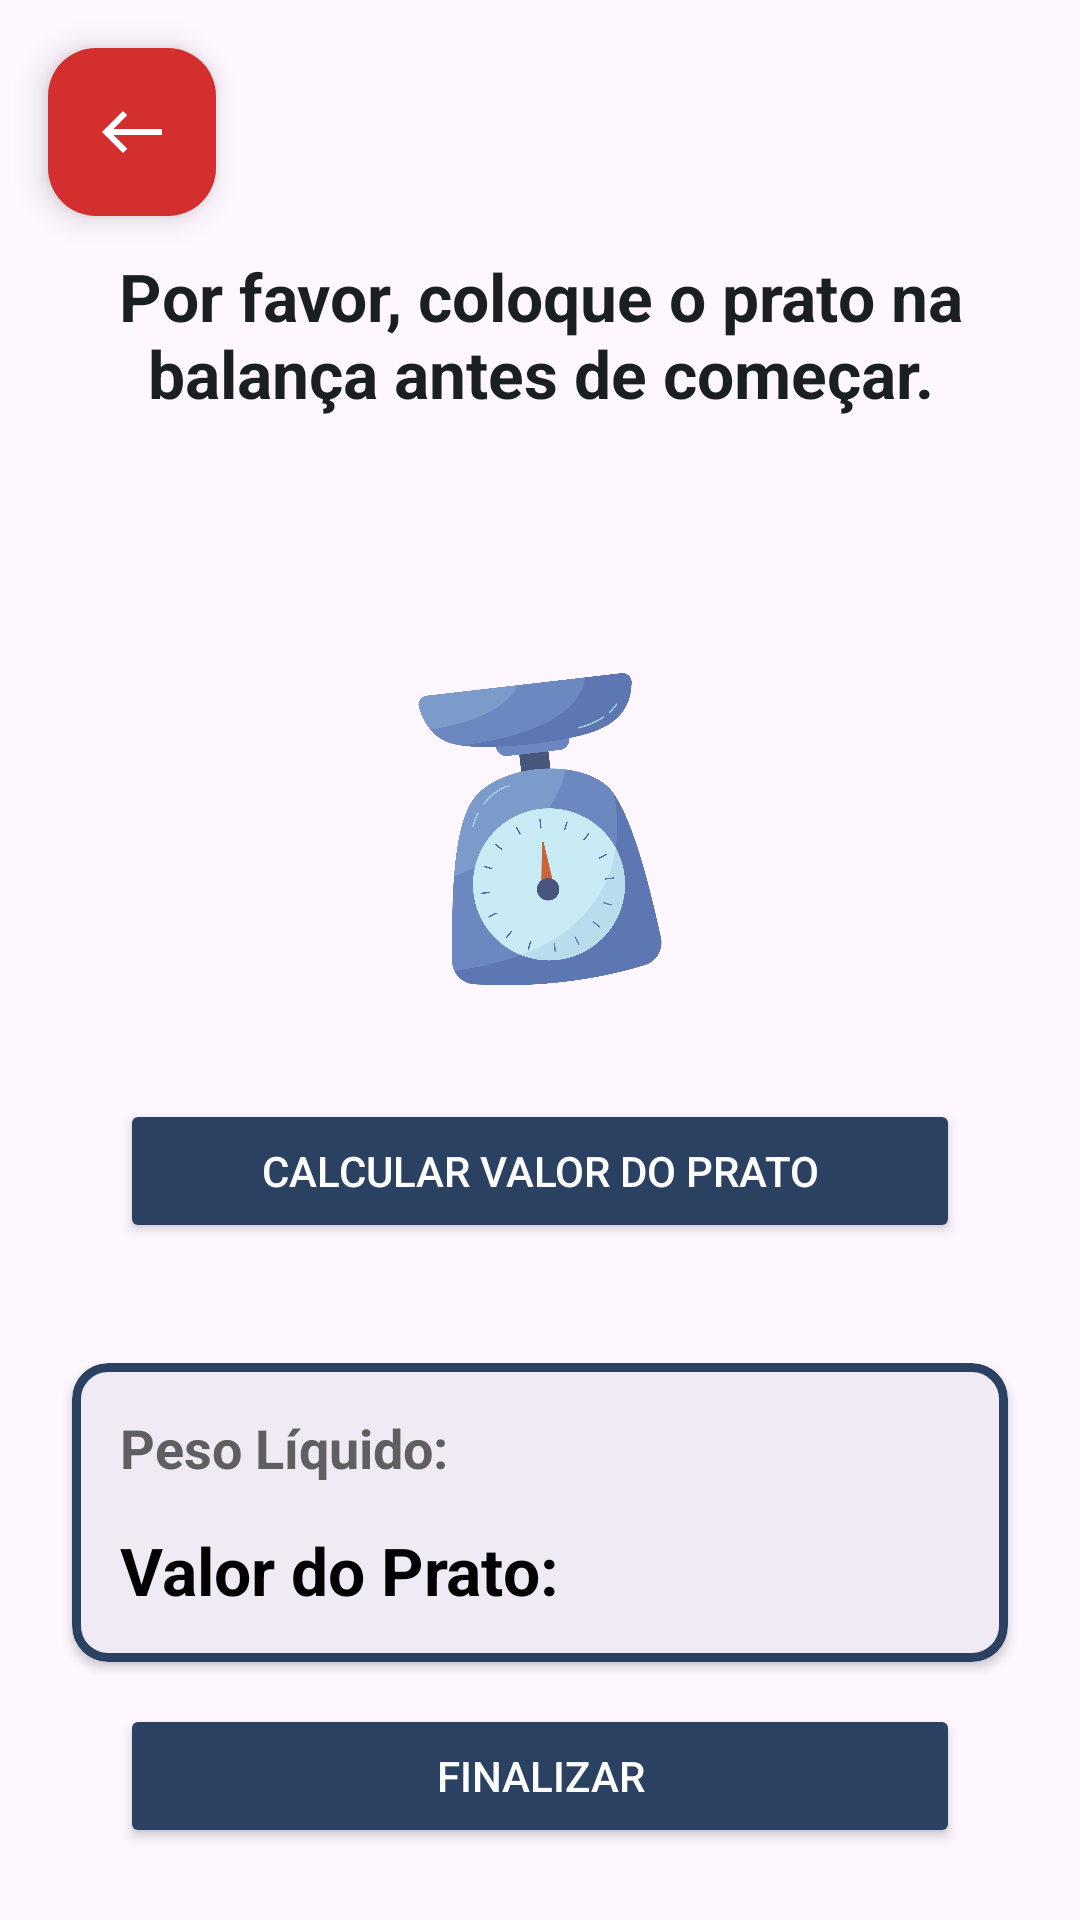

Named icons in this screenshot (1080*1920) and their centers, point (x, y):
Ilustração da instrução de pesagem: point (540, 829)
Voltar: point (132, 132)
